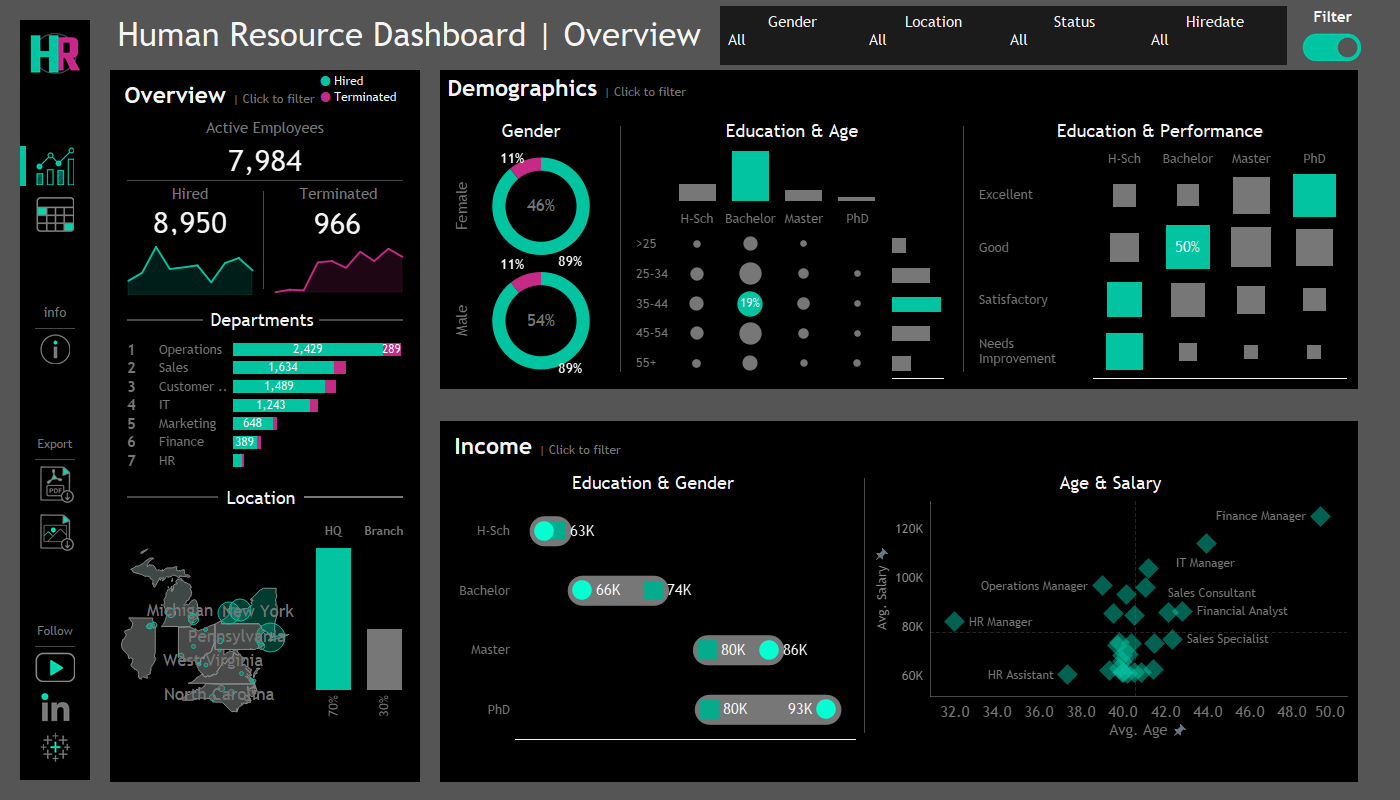

What the dashboard file says about the page in this screenshot:
{"tool":"tableau","page":{"name":"HR Summary","canvas":[1400,800],"ordinal":1},"visuals":[{"type":"blank","box":[88,0,1312,266]},{"type":"text","box":[110,0,622,70]},{"type":"blank","box":[732,0,648,70]},{"type":"text","box":[1310,3,68,28]},{"type":"filter","title":"Gender vs Education level","param":"[federated.1bm0qd01jv97v312qobd61hwjj9g].[none:Gender:nk]","box":[722,8,141,55]},{"type":"filter","title":"Gender vs Education level","param":"[federated.1bm0qd01jv97v312qobd61hwjj9g].[none:Calculation_935341389381767175:nk","box":[863,8,141,55]},{"type":"filter","title":"Gender vs Education level","param":"[federated.1bm0qd01jv97v312qobd61hwjj9g].[none:Calculation_935341389634408462:nk","box":[1004,8,141,55]},{"type":"filter","title":"Gender vs Education level","param":"[federated.1bm0qd01jv97v312qobd61hwjj9g].[yr:Hiredate:ok]","box":[1145,8,140,55]},{"type":"dashboard-object","box":[1302,15,59,64]},{"type":"image","param":"Image/Logo.png","box":[30,30,50,47]},{"type":"text","box":[440,70,918,35]},{"type":"text","box":[317,72,94,35]},{"type":"blank","box":[30,77,50,70]},{"type":"text","box":[117,77,296,35]},{"type":"text","box":[117,112,296,29]},{"type":"text","box":[447,116,168,29]},{"type":"blank","box":[620,116,1,266]},{"type":"text","box":[626,116,332,29]},{"type":"blank","box":[963,116,1,266]},{"type":"text","box":[969,116,382,29]},{"type":"worksheet","title":"BAN(Active)","mark":"Automatic","box":[117,141,296,39]},{"type":"worksheet","title":"Gender","mark":"Pie","rows":["Gender"],"cols":["Calculation_935341389474361355","Calculation_935341389474361355"],"box":[447,145,168,237]},{"type":"worksheet","title":"Education Levels","mark":"Bar","rows":["Calculation_935341389373718528"],"cols":["Education Level"],"box":[626,145,332,60]},{"type":"worksheet","title":"Education Vs performance","mark":"Square","rows":["Performance Rating"],"cols":["Education Level"],"box":[969,145,382,237]},{"type":"blank","box":[20,146,6,40]},{"type":"dashboard-object","box":[30,147,50,38]},{"type":"blank","box":[117,180,296,1]},{"type":"text","box":[117,181,146,26]},{"type":"blank","box":[263,181,1,118]},{"type":"text","box":[264,181,149,26]},{"type":"blank","box":[30,185,50,10]},{"type":"dashboard-object","box":[30,195,50,38]},{"type":"worksheet","title":"Age vs Education","mark":"Circle","rows":["Calculation_935341389478494221"],"cols":["Education Level"],"box":[626,205,262,177]},{"type":"worksheet","title":"Age Groups","mark":"Bar","rows":["Calculation_935341389478494221"],"cols":["Calculation_935341389373718528"],"box":[888,205,59,177]},{"type":"worksheet","title":"BAN(Hired)","mark":"Automatic","box":[117,207,146,32]},{"type":"worksheet","title":"BAN(Terminated)","mark":"Automatic","box":[264,207,149,34]},{"type":"blank","box":[30,233,50,70]},{"type":"worksheet","title":"Hired By Year","mark":"Automatic","rows":["Calculation_935341389373718528","Calculation_935341389373718528"],"cols":["Hiredate"],"box":[117,239,146,60]},{"type":"worksheet","title":"Terminated By Year","mark":"Automatic","rows":["Calculation_935341389373853697","Calculation_935341389373853697"],"cols":["Termdate"],"box":[264,241,149,58]},{"type":"text","box":[88,266,1312,250]},{"type":"text","box":[30,303,50,20]},{"type":"blank","box":[127,304,76,32]},{"type":"text","box":[203,304,116,32]},{"type":"blank","box":[319,304,84,32]},{"type":"blank","box":[30,323,50,11]},{"type":"dashboard-object","box":[30,334,50,30]},{"type":"worksheet","title":"Departments","mark":"Bar","rows":["Calculation_935341389380255748","Department"],"cols":["Calculation_935341389373718528"],"box":[117,336,296,138]},{"type":"blank","box":[30,364,50,70]},{"type":"blank","box":[440,389,918,32]},{"type":"text","box":[447,428,904,35]},{"type":"text","box":[30,434,50,20]},{"type":"blank","box":[30,454,50,11]},{"type":"dashboard-object","box":[30,465,50,38]},{"type":"text","box":[447,468,412,29]},{"type":"blank","box":[864,468,1,275]},{"type":"text","box":[870,468,481,29]},{"type":"blank","box":[127,479,91,38]},{"type":"text","box":[218,479,86,38]},{"type":"blank","box":[304,479,99,38]},{"type":"worksheet","title":"Gender vs Education level","mark":"Square","rows":["Education Level"],"cols":["Salary","Salary"],"box":[447,497,412,246]},{"type":"worksheet","title":"Age vs salary","mark":"Shape","rows":["Salary"],"cols":["Calculation_935341389478125580"],"box":[870,497,481,246]},{"type":"blank","box":[30,503,50,10]},{"type":"dashboard-object","box":[30,513,50,38]},{"type":"blank","box":[88,516,1312,284]},{"type":"worksheet","title":"Map States","mark":"Multipolygon","box":[117,517,187,217]},{"type":"worksheet","title":"Locations","mark":"Bar","rows":["Calculation_935341389373718528"],"cols":["Calculation_935341389381767175","Calculation1"],"box":[304,517,109,217]},{"type":"blank","box":[30,551,50,70]},{"type":"text","box":[30,621,50,20]},{"type":"blank","box":[30,641,50,11]},{"type":"image","param":"Image/contact-channel.png","box":[30,652,50,30]},{"type":"blank","box":[30,682,50,10]},{"type":"image","param":"Image/contact-linkedin.png","box":[30,692,50,30]},{"type":"blank","box":[30,722,50,10]},{"type":"image","param":"Image/contact-public.png","box":[30,732,50,30]}]}

Visuals, with their boxes in screenshot pixels (x1, y1, x2, y2), scaled from the page's 1400x800 canvas onto the 1400x800 screenshot:
blank: box=[88, 0, 1399, 266]
text: box=[110, 0, 732, 70]
blank: box=[732, 0, 1380, 70]
text: box=[1310, 3, 1378, 31]
"Gender vs Education level" filter: box=[722, 8, 863, 63]
"Gender vs Education level" filter: box=[863, 8, 1004, 63]
"Gender vs Education level" filter: box=[1004, 8, 1145, 63]
"Gender vs Education level" filter: box=[1145, 8, 1285, 63]
dashboard-object: box=[1302, 15, 1361, 79]
image: box=[30, 30, 80, 77]
text: box=[440, 70, 1358, 105]
text: box=[317, 72, 411, 107]
blank: box=[30, 77, 80, 147]
text: box=[117, 77, 413, 112]
text: box=[117, 112, 413, 141]
text: box=[447, 116, 615, 145]
blank: box=[620, 116, 621, 382]
text: box=[626, 116, 958, 145]
blank: box=[963, 116, 964, 382]
text: box=[969, 116, 1351, 145]
"BAN(Active)" worksheet: box=[117, 141, 413, 180]
"Gender" worksheet (Pie marks): box=[447, 145, 615, 382]
"Education Levels" worksheet (Bar marks): box=[626, 145, 958, 205]
"Education Vs performance" worksheet (Square marks): box=[969, 145, 1351, 382]
blank: box=[20, 146, 26, 186]
dashboard-object: box=[30, 147, 80, 185]
blank: box=[117, 180, 413, 181]
text: box=[117, 181, 263, 207]
blank: box=[263, 181, 264, 299]
text: box=[264, 181, 413, 207]
blank: box=[30, 185, 80, 195]
dashboard-object: box=[30, 195, 80, 233]
"Age vs Education" worksheet (Circle marks): box=[626, 205, 888, 382]
"Age Groups" worksheet (Bar marks): box=[888, 205, 947, 382]
"BAN(Hired)" worksheet: box=[117, 207, 263, 239]
"BAN(Terminated)" worksheet: box=[264, 207, 413, 241]
blank: box=[30, 233, 80, 303]
"Hired By Year" worksheet: box=[117, 239, 263, 299]
"Terminated By Year" worksheet: box=[264, 241, 413, 299]
text: box=[88, 266, 1399, 516]
text: box=[30, 303, 80, 323]
blank: box=[127, 304, 203, 336]
text: box=[203, 304, 319, 336]
blank: box=[319, 304, 403, 336]
blank: box=[30, 323, 80, 334]
dashboard-object: box=[30, 334, 80, 364]
"Departments" worksheet (Bar marks): box=[117, 336, 413, 474]
blank: box=[30, 364, 80, 434]
blank: box=[440, 389, 1358, 421]
text: box=[447, 428, 1351, 463]
text: box=[30, 434, 80, 454]
blank: box=[30, 454, 80, 465]
dashboard-object: box=[30, 465, 80, 503]
text: box=[447, 468, 859, 497]
blank: box=[864, 468, 865, 743]
text: box=[870, 468, 1351, 497]
blank: box=[127, 479, 218, 517]
text: box=[218, 479, 304, 517]
blank: box=[304, 479, 403, 517]
"Gender vs Education level" worksheet (Square marks): box=[447, 497, 859, 743]
"Age vs salary" worksheet (Shape marks): box=[870, 497, 1351, 743]
blank: box=[30, 503, 80, 513]
dashboard-object: box=[30, 513, 80, 551]
blank: box=[88, 516, 1399, 799]
"Map States" worksheet (Multipolygon marks): box=[117, 517, 304, 734]
"Locations" worksheet (Bar marks): box=[304, 517, 413, 734]
blank: box=[30, 551, 80, 621]
text: box=[30, 621, 80, 641]
blank: box=[30, 641, 80, 652]
image: box=[30, 652, 80, 682]
blank: box=[30, 682, 80, 692]
image: box=[30, 692, 80, 722]
blank: box=[30, 722, 80, 732]
image: box=[30, 732, 80, 762]
